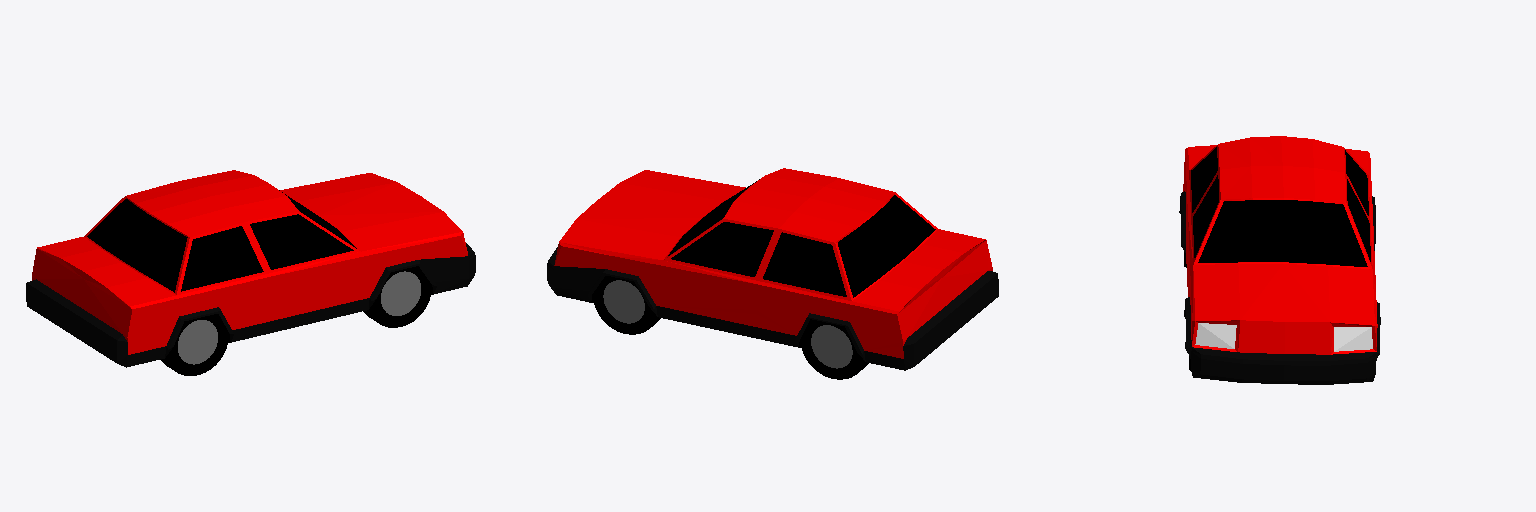
Rendered from Car.obj.
3 views of the same model, side by side, from view 1: azimuth 30°, elevation 25°; view 2: azimuth 150°, elevation 25°; view 3: azimuth 270°, elevation 25° (orthographic).
Visible parts, largest first — view 1: Car_Cube; view 2: Car_Cube; view 3: Car_Cube.
Boxes of the visible parts, box(x1,y1,x2,y2) form: Car_Cube: box(26, 170, 475, 375); Car_Cube: box(547, 168, 998, 379); Car_Cube: box(1179, 136, 1380, 384).
Size of the model in its own units: 4.69 by 1.65 by 2.17.